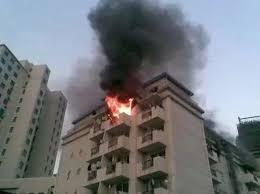fire: (104, 93, 134, 116)
